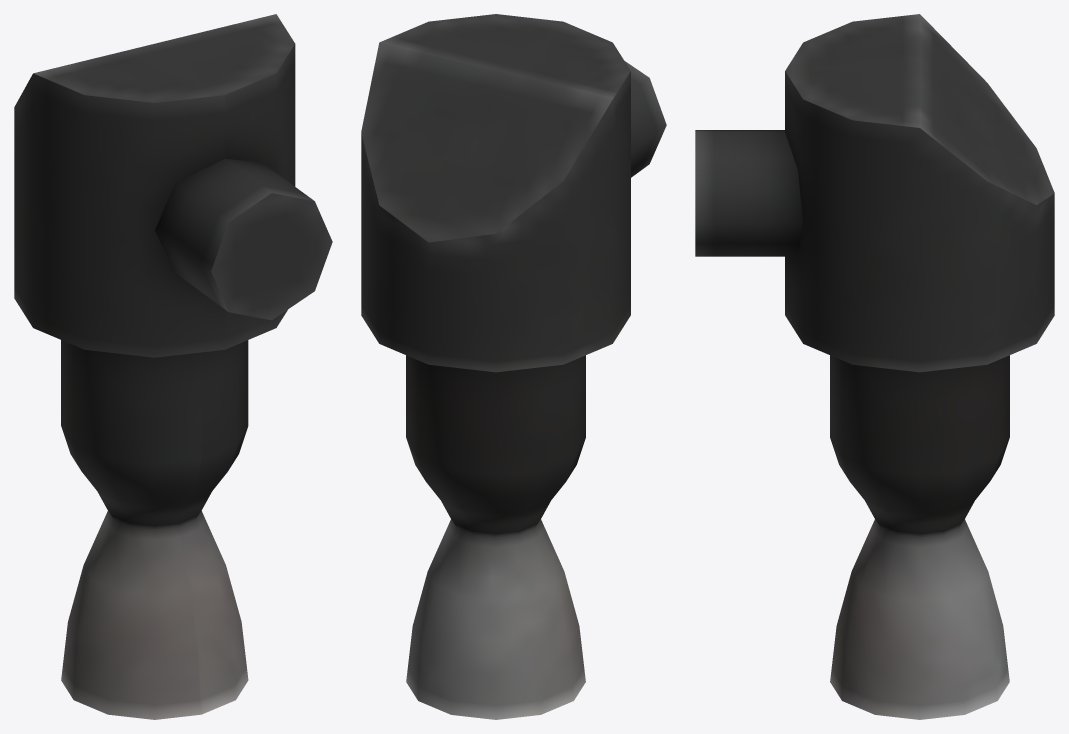
File: rcs_1.obj
3 renders of one model, left to right at view 1: azimuth 30°, elevation 25°; view 2: azimuth 150°, elevation 25°; view 3: azimuth 270°, elevation 25°, orthographic. The views are drawn at different scales.
Visible parts, largest first — view 1: 1; view 2: 1; view 3: 1.
Boxes of the visible parts, x1,y1,x2,y2 form: 1: (14, 14, 332, 719); 1: (361, 14, 666, 719); 1: (695, 14, 1054, 719).
Size of the model in its own units: 0.075 by 0.1875 by 0.1.
Materials: 1 (1 with a texture image).
